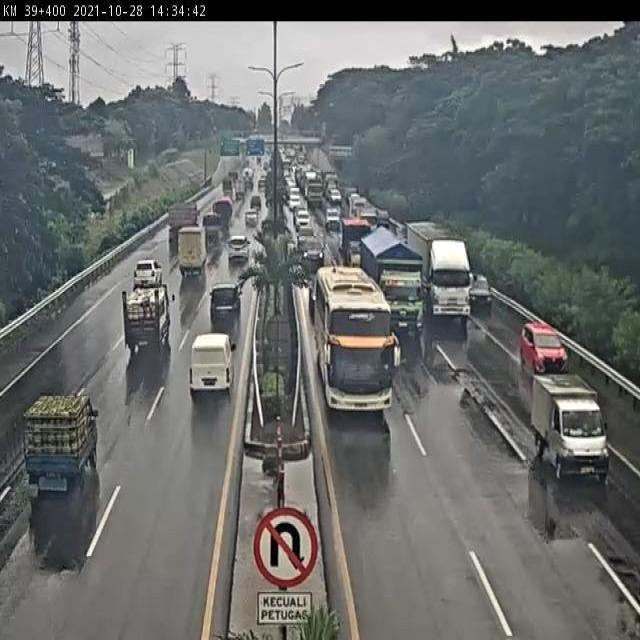car: (12, 376, 101, 511), (532, 372, 613, 496), (181, 329, 241, 415), (513, 306, 573, 374), (202, 280, 249, 333), (125, 251, 168, 291), (473, 267, 501, 321), (219, 230, 250, 274), (172, 200, 199, 232), (301, 231, 322, 268), (205, 211, 219, 239), (327, 209, 340, 236), (294, 208, 314, 225), (244, 207, 259, 228), (252, 191, 260, 209), (330, 191, 341, 204), (292, 192, 298, 209)
truck: (313, 260, 403, 424), (366, 233, 432, 343), (416, 235, 470, 333), (116, 279, 178, 364), (170, 227, 213, 296), (173, 223, 216, 287), (343, 220, 367, 265), (310, 177, 323, 207)
